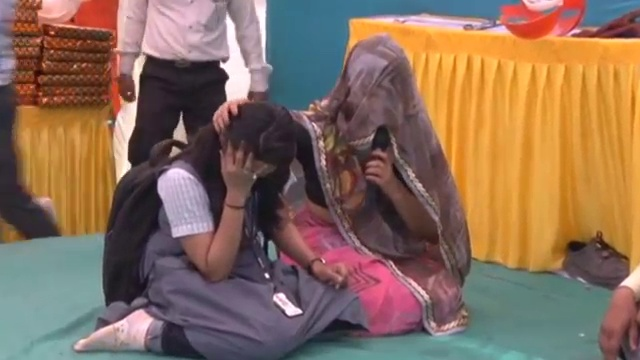helmet_off: (330, 41, 424, 145), (224, 101, 298, 192)
person: (70, 98, 368, 360), (302, 42, 471, 335), (107, 0, 271, 165), (0, 2, 55, 236)
